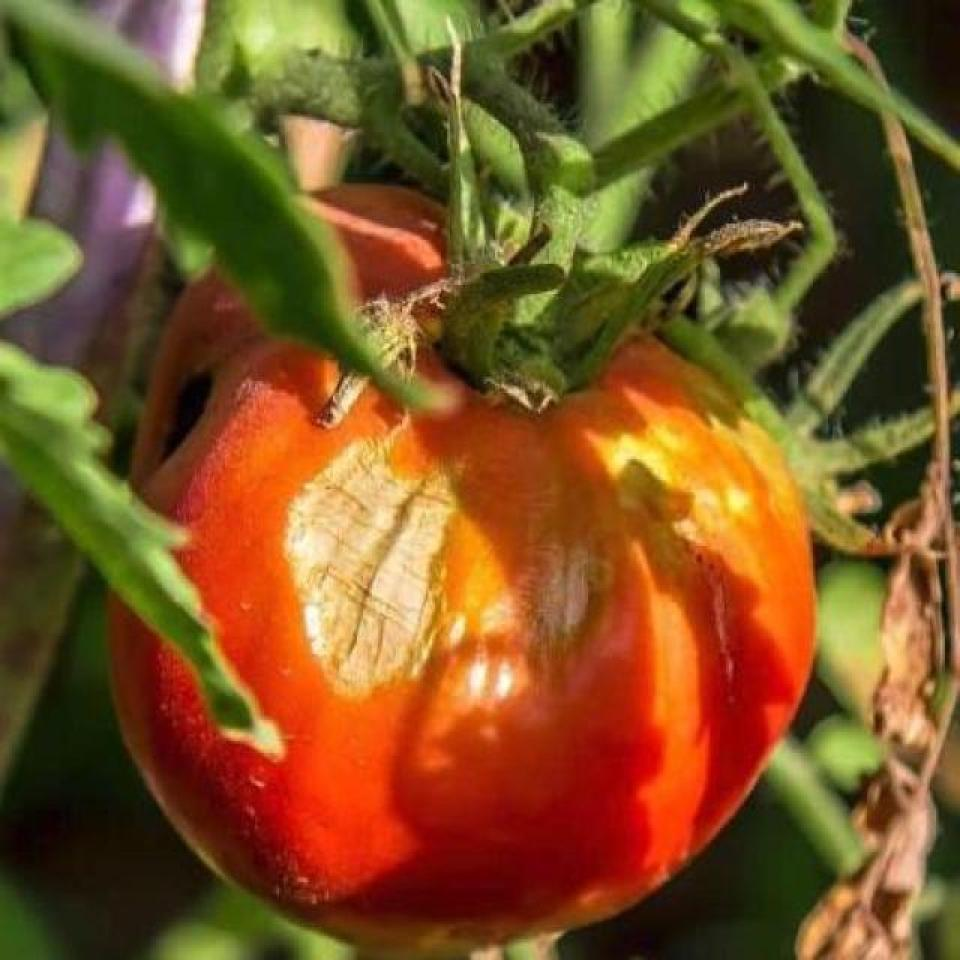Sunscald: (266, 379, 793, 779)
